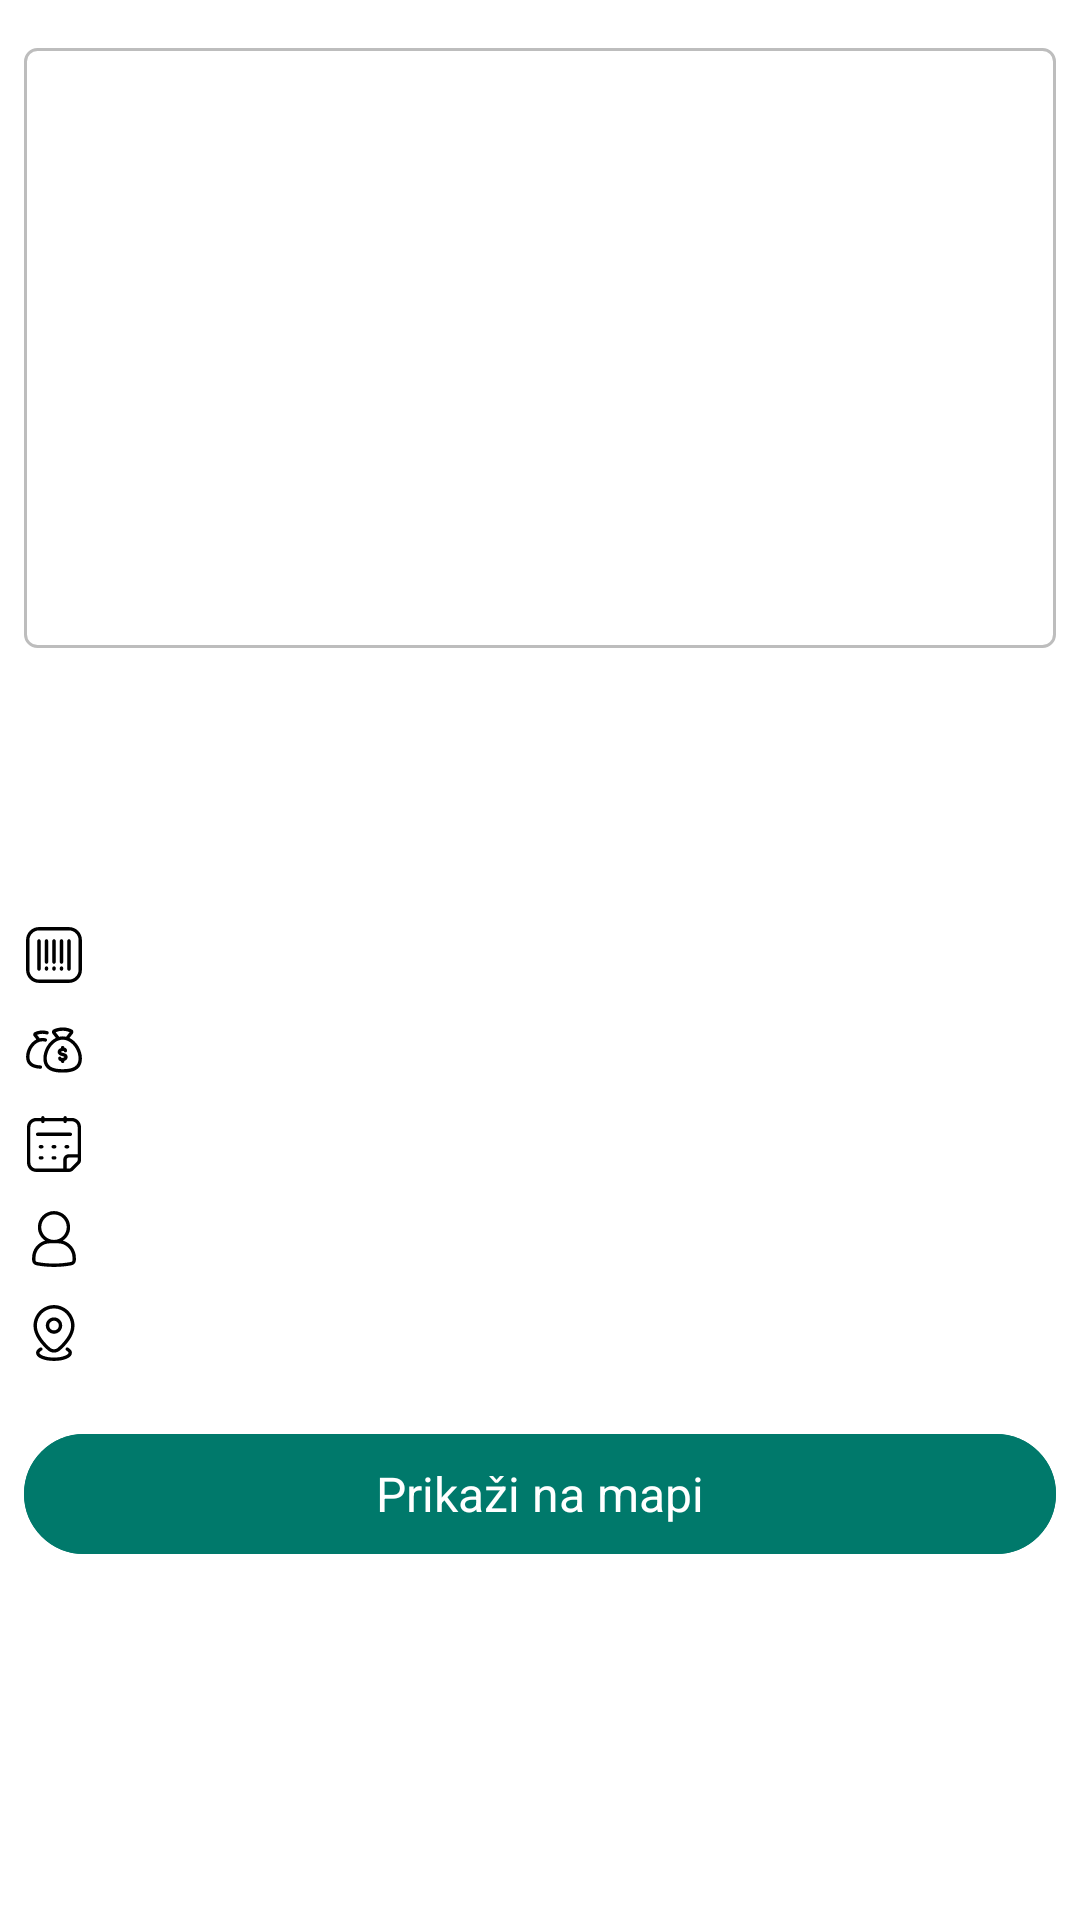

Named icons in this screenshot (1080 × 1920) and their bounding boxes, (left=x1, top=y1, right=x2, bottom=y2):
barcode: (left=26, top=927, right=82, bottom=983)
date: (left=27, top=1116, right=81, bottom=1172)
location: (left=33, top=1305, right=75, bottom=1361)
person: (left=32, top=1211, right=76, bottom=1267)
price: (left=26, top=1027, right=82, bottom=1073)
